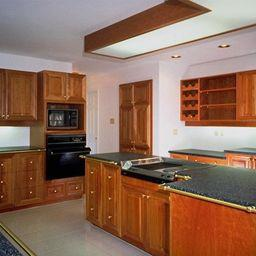Electrodomestico: (124, 157, 205, 185), (49, 136, 86, 178)
